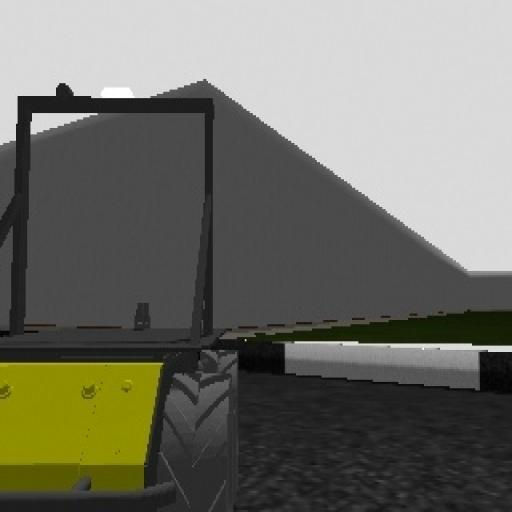huskya200: (0, 47, 249, 512)
